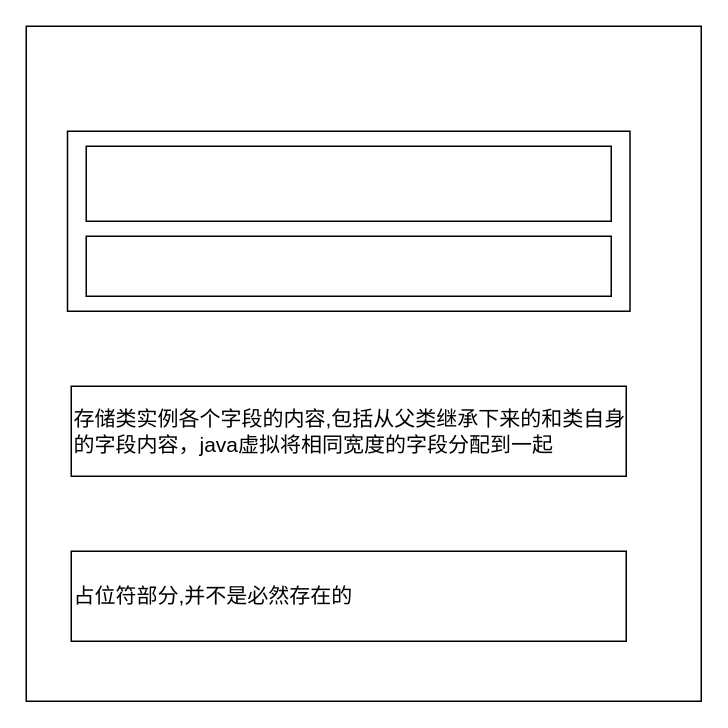
This 728x728 diagram has some shape labels left out. The centre of each missing label's shape, as x and y in pixels:
"对象头信息存储自身运行时的数据,hash码,GC分代年龄,锁状态等" belongs at (x=348, y=183).
"对象头的另一部存储类型指针,执行类的元数据,虚拟机通过该指针确定对象是哪个类的实例" belongs at (x=348, y=265).
